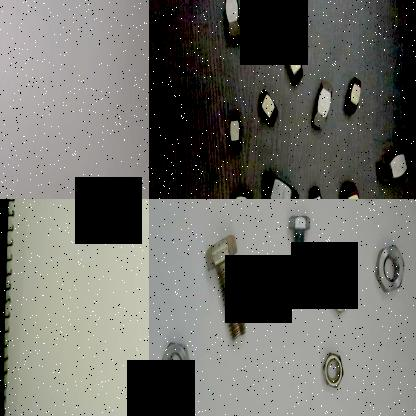Bolts: (200, 222, 251, 345), (282, 204, 314, 286)
NUTS: (155, 334, 195, 393), (373, 240, 411, 299), (306, 77, 332, 133), (320, 348, 352, 393), (260, 166, 298, 199), (376, 150, 410, 186), (219, 100, 244, 148), (325, 270, 349, 318), (257, 82, 282, 127), (218, 0, 242, 44), (284, 38, 305, 87), (341, 74, 362, 118), (339, 178, 365, 199), (225, 186, 255, 199), (305, 183, 324, 199)
